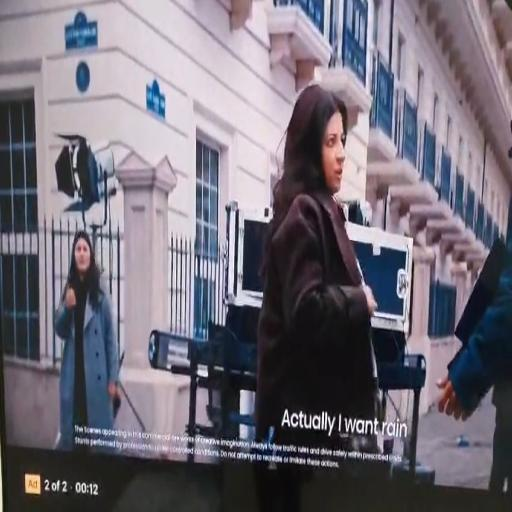ad label: (24, 472, 41, 498)
